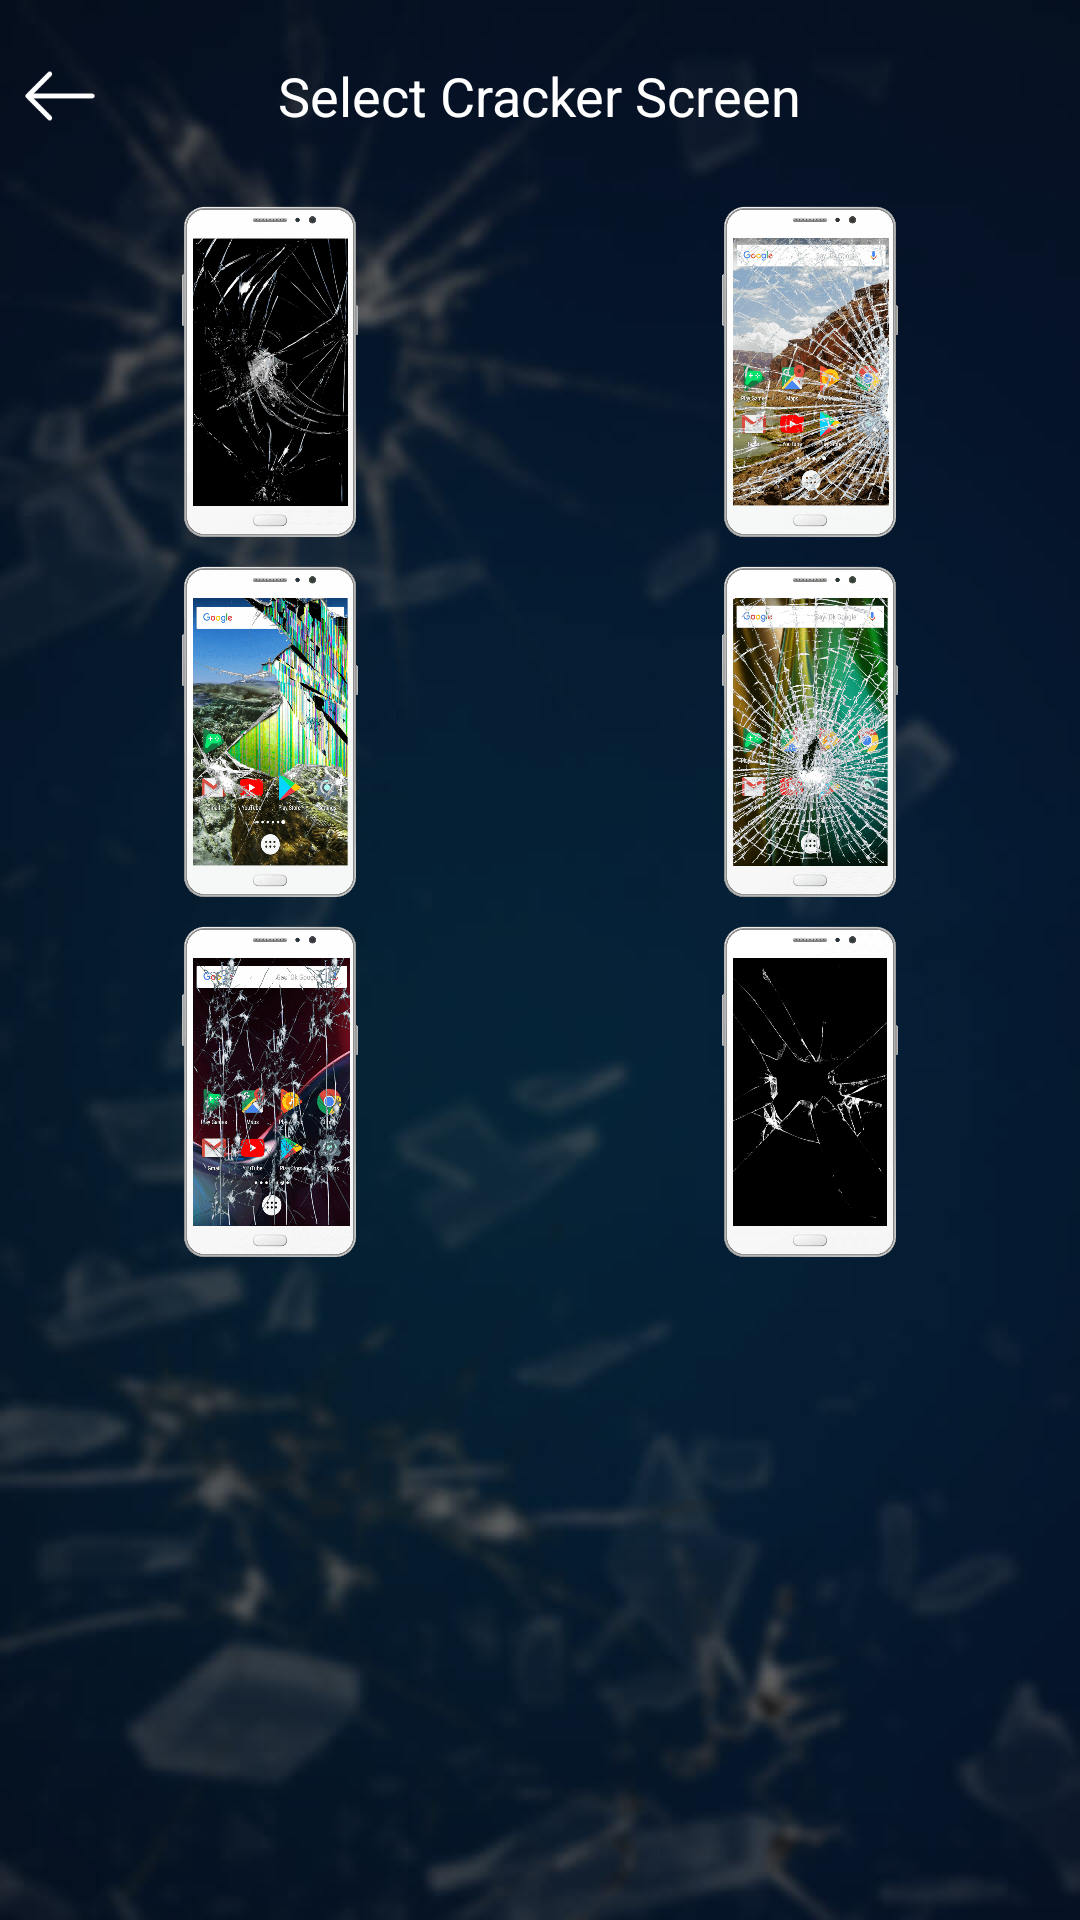

Where to tap for icons on this 1080px x 1920px app screen, as [x,y]:
back: [60,96]
